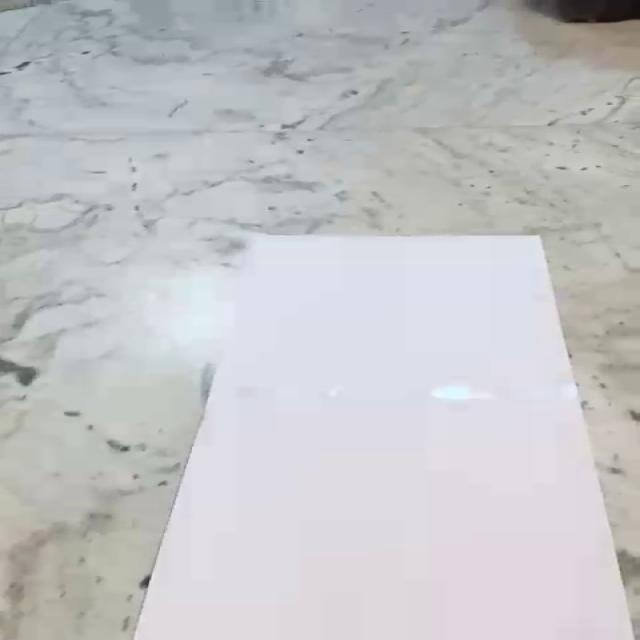road: (132, 235, 637, 640)
